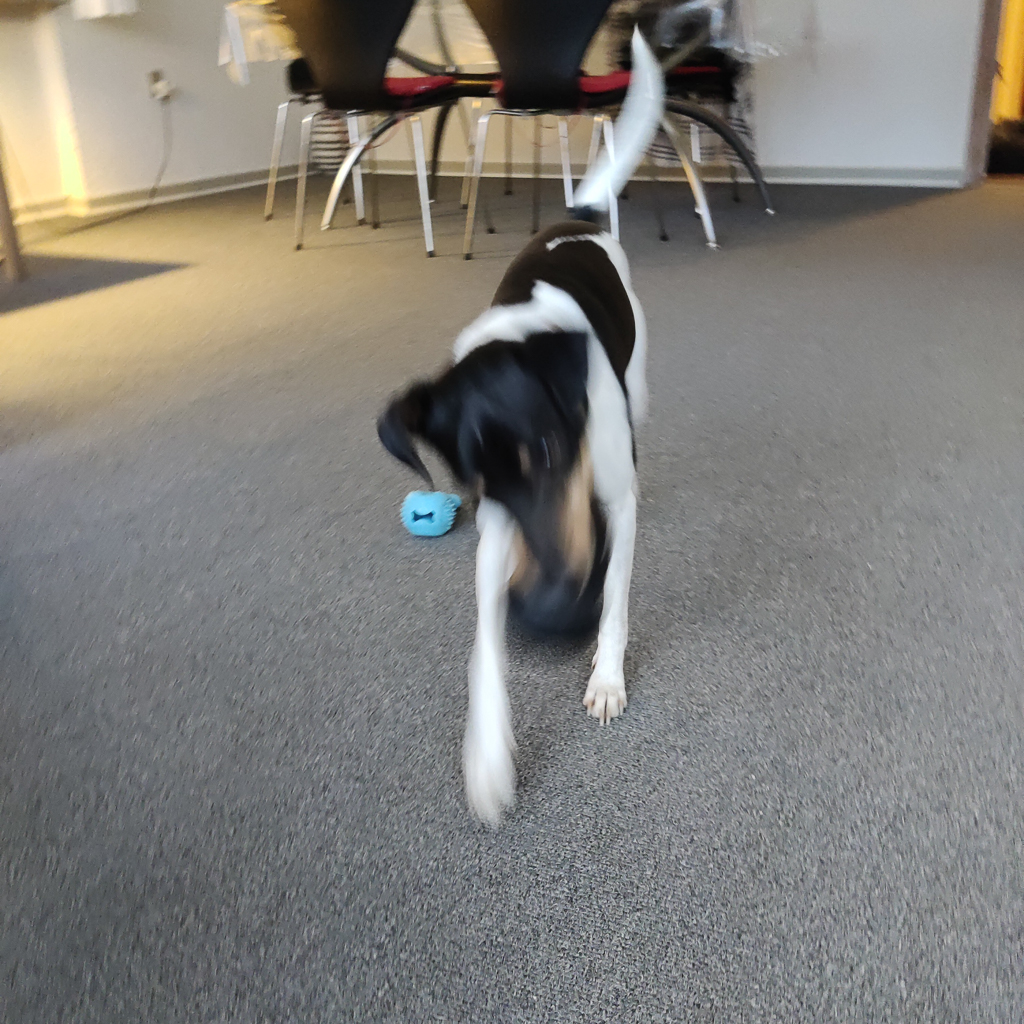Dog: (344, 9, 743, 882)
